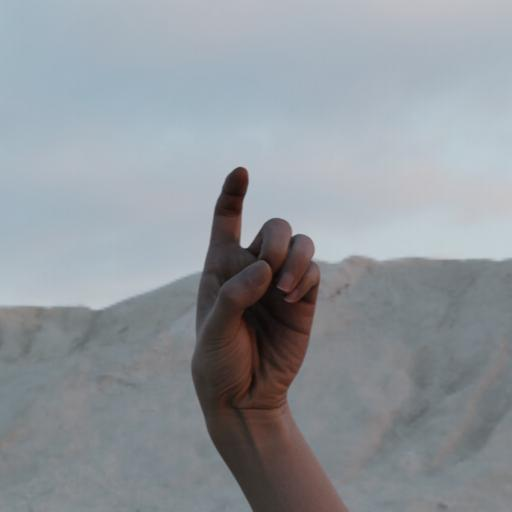X: (180, 161, 327, 430)
